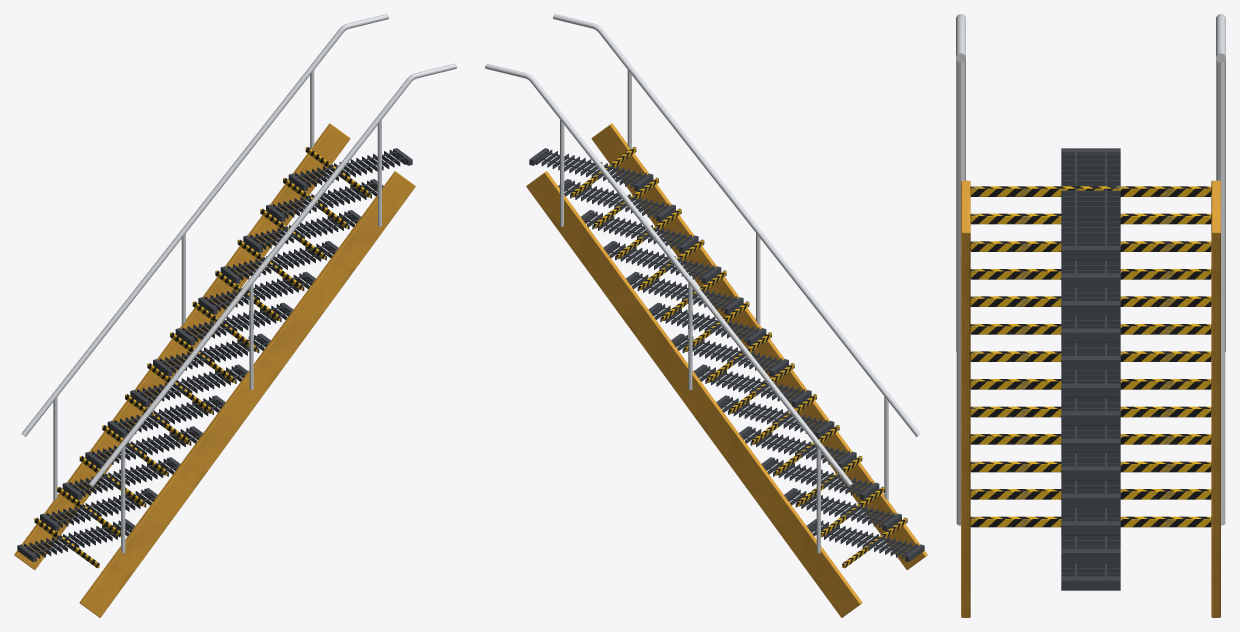
The model's file is Stairs.glb.
The picture shows the model from 3 angles, left to right: view 1: azimuth 30°, elevation 25°; view 2: azimuth 150°, elevation 25°; view 3: azimuth 270°, elevation 25°; orthographic projection. The views are drawn at different scales.
Visible parts, largest first — view 1: Stairs_Body; view 2: Stairs_Body; view 3: Stairs_Body.
Boxes of the visible parts, left/top/right/bottom form: Stairs_Body: left=14, top=14, right=456, bottom=617; Stairs_Body: left=485, top=14, right=927, bottom=617; Stairs_Body: left=956, top=14, right=1225, bottom=617.
Size of the model in its own units: 3.65 by 4.11 by 1.12.
Materials: 4 (2 with a texture image).
